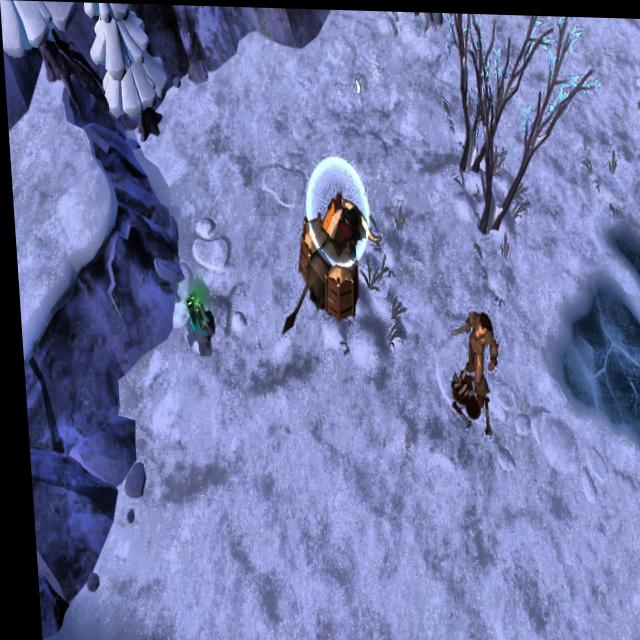enemy_factionKeeper: (449, 308, 496, 406)
ore_t4: (177, 287, 209, 344)
